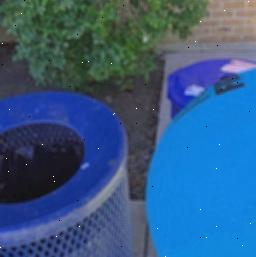algae: (143, 61, 256, 257)
